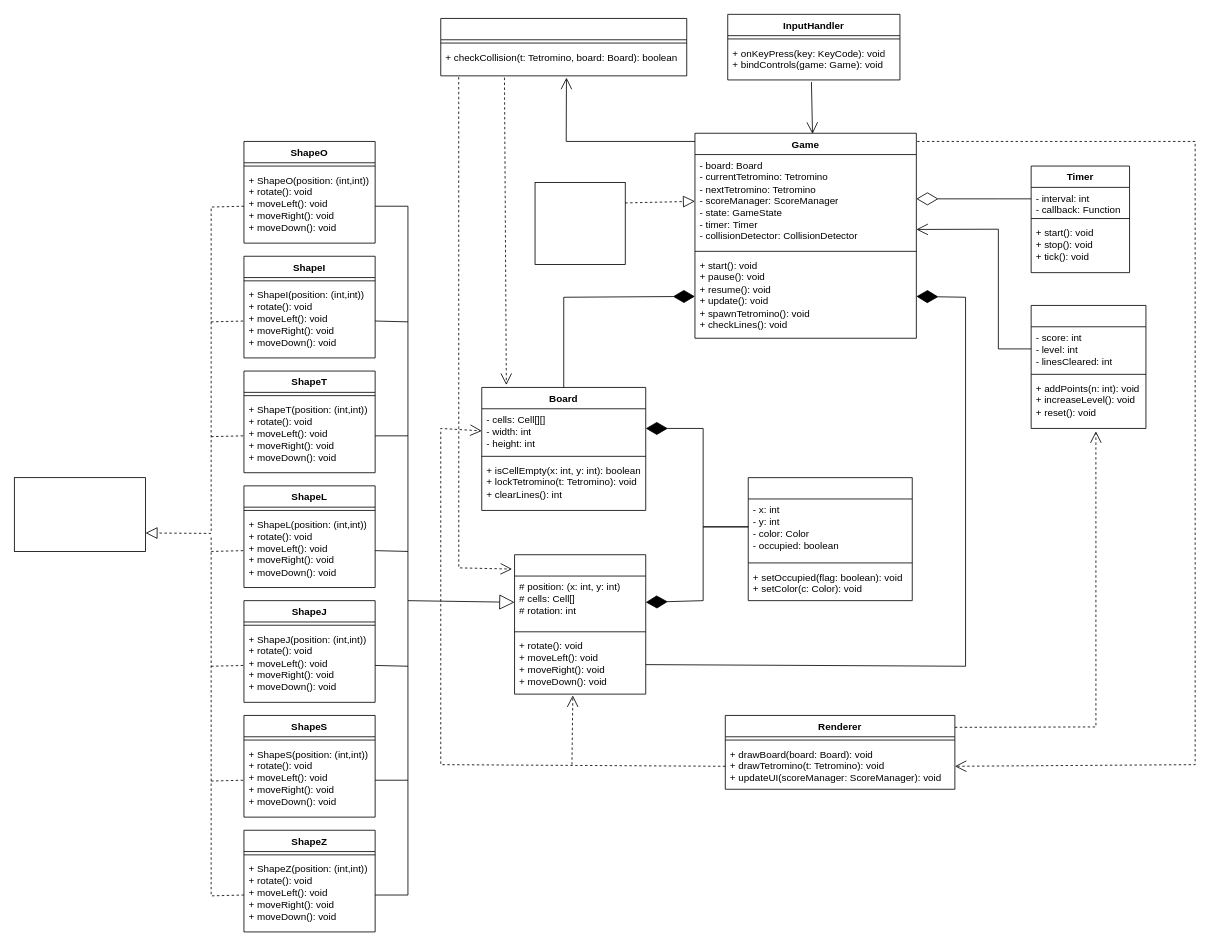
The diagram is 1221 pixels wide and 949 high, and some of its shapes have lost their labels. The box of each missing label's shape, as (x1, y1, x2, y2) in pixels:
<<Enum>> GameState + RUNNING + PAUSED + GAME_OVER: (534, 182, 625, 264)
<<Interface>> IShape + rotate(): void + getShapeMatrix(): Cell[][]: (14, 477, 146, 551)
Cell: (747, 477, 912, 601)
CollisionDetector: (440, 18, 687, 76)
ScoreManager: (1030, 305, 1146, 428)
Tetromino (abstract): (514, 554, 646, 694)
